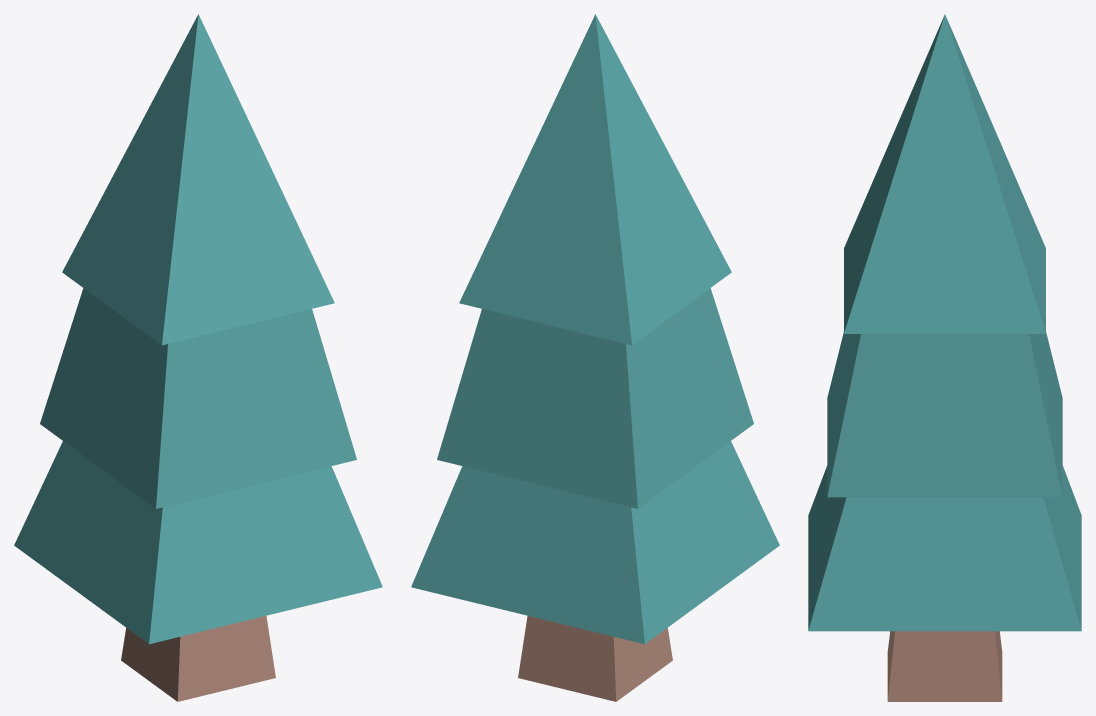
File: tree_pineSmallD.glb
The picture shows the model from 3 angles, left to right: view 1: azimuth 30°, elevation 25°; view 2: azimuth 150°, elevation 25°; view 3: azimuth 270°, elevation 25°; orthographic projection.
Visible parts, largest first — view 1: tree_pineSmallD; view 2: tree_pineSmallD; view 3: tree_pineSmallD.
Boxes of the visible parts, <box> form: tree_pineSmallD: <box>14,14,382,701</box>; tree_pineSmallD: <box>411,14,779,701</box>; tree_pineSmallD: <box>808,14,1081,701</box>.
Size of the model in its own units: 0.357 by 0.9556 by 0.357.
